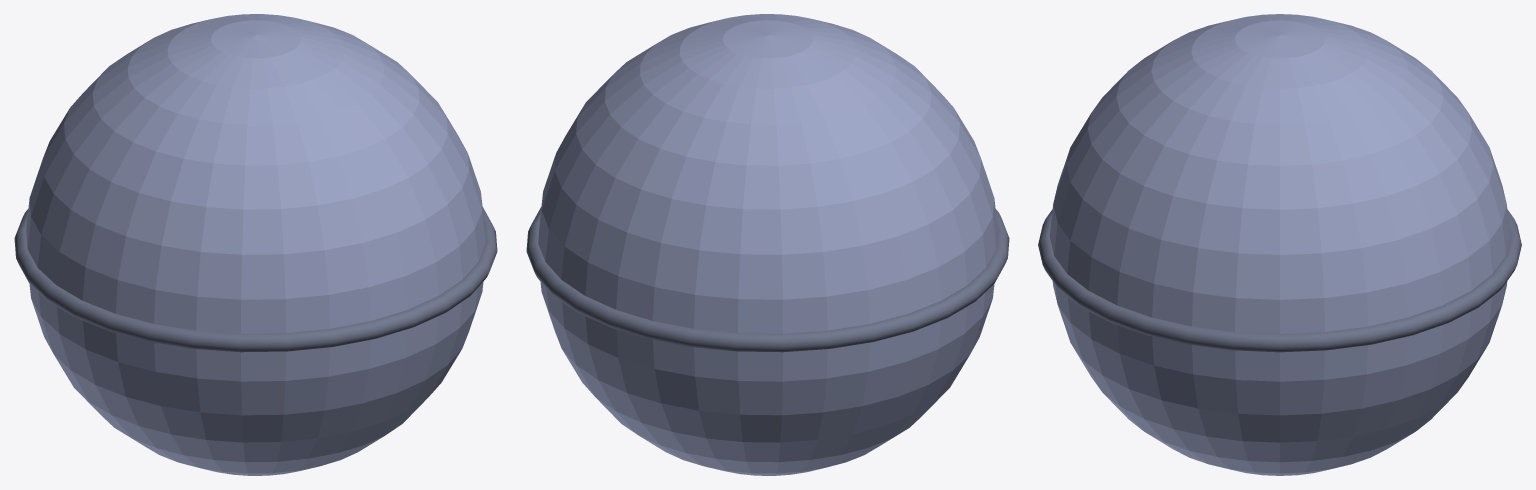
The model's file is projectile-ball.glb.
3 views of the same model, side by side, from view 1: azimuth 30°, elevation 25°; view 2: azimuth 150°, elevation 25°; view 3: azimuth 270°, elevation 25° (orthographic).
Visible parts, largest first — view 1: ProjectileBall, Seam; view 2: ProjectileBall, Seam; view 3: ProjectileBall, Seam.
Boxes of the visible parts, x1=… form: ProjectileBall: x1=26, y1=14, x2=485, y2=475; Seam: x1=14, y1=207, x2=497, y2=352; ProjectileBall: x1=538, y1=14, x2=997, y2=475; Seam: x1=526, y1=207, x2=1009, y2=352; ProjectileBall: x1=1049, y1=14, x2=1510, y2=475; Seam: x1=1038, y1=209, x2=1521, y2=352.
Size of the model in its own units: 0.586 by 0.56 by 0.586.
